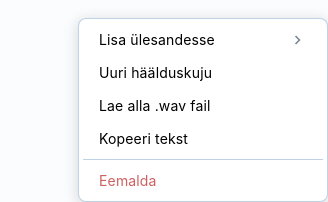
SentenceMenu structure and classes › loading state has aria-busy=true
The width and height of the screenshot is (328, 202).
(page scrolled)
Click the text "Lisa ülesandesse" at (157, 40), box x1=99 y1=29 x2=215 y2=50
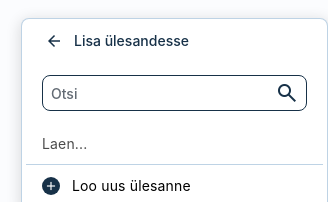
Result: the element showing "Laen..." is shown at x1=42 y1=135 x2=87 y2=152
